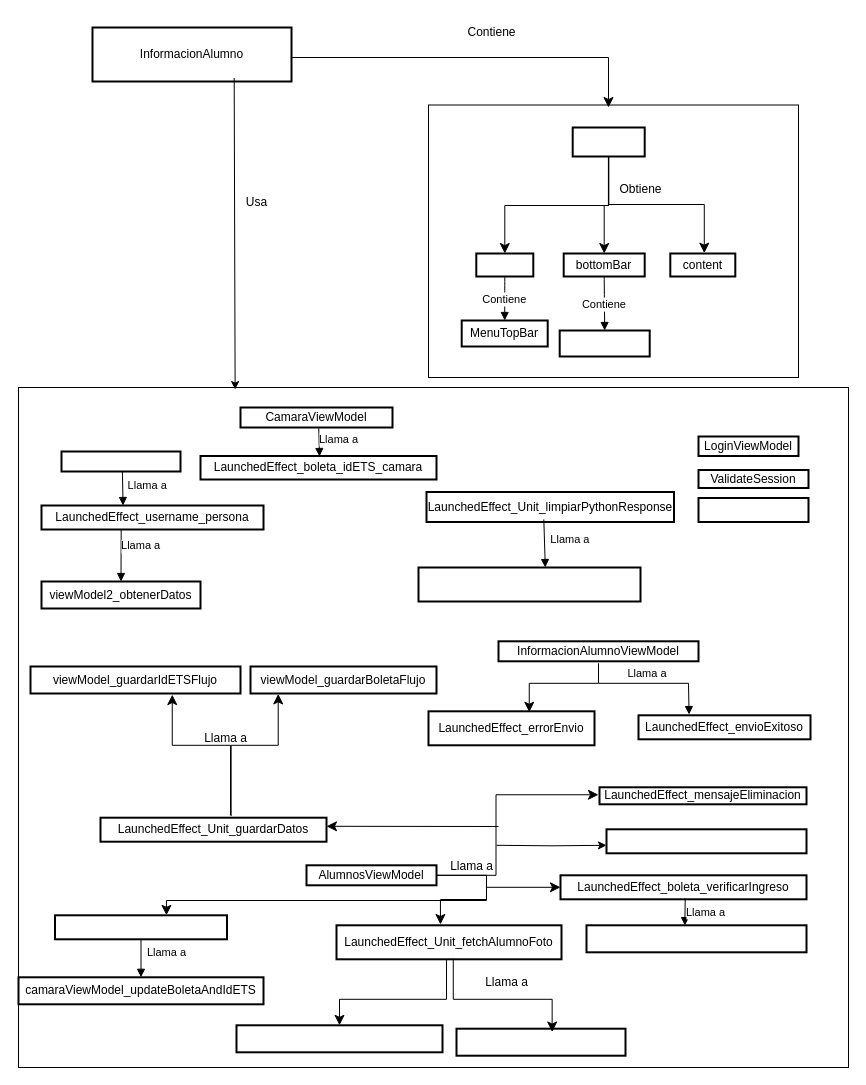
The diagram is 866 pixels wide and 1085 high, and some of its shapes have lost their labels. Here are the shapes that lost their labels. From the top down, the centre of each, then its label:
At [608,141]: "Scaffold".
At [504,264]: "topBar".
At [604,343]: "MenuBottomBar".
At [120,461]: "PersonaViewModel".
At [753,509]: "NavController".
At [529,584]: "camaraViewModel_setPythonResponse".
At [706,841]: "LaunchedEffect_eliminacionExitosa".
At [141,927]: "LaunchedEffect_boleta_idETS".
At [696,938]: "viewModel_verificarIngresoSalon".
At [339,1038]: "viewModel_fetchAlumnoEspecifico".
At [540,1041]: "viewModel_fetchFotoAlumno".
